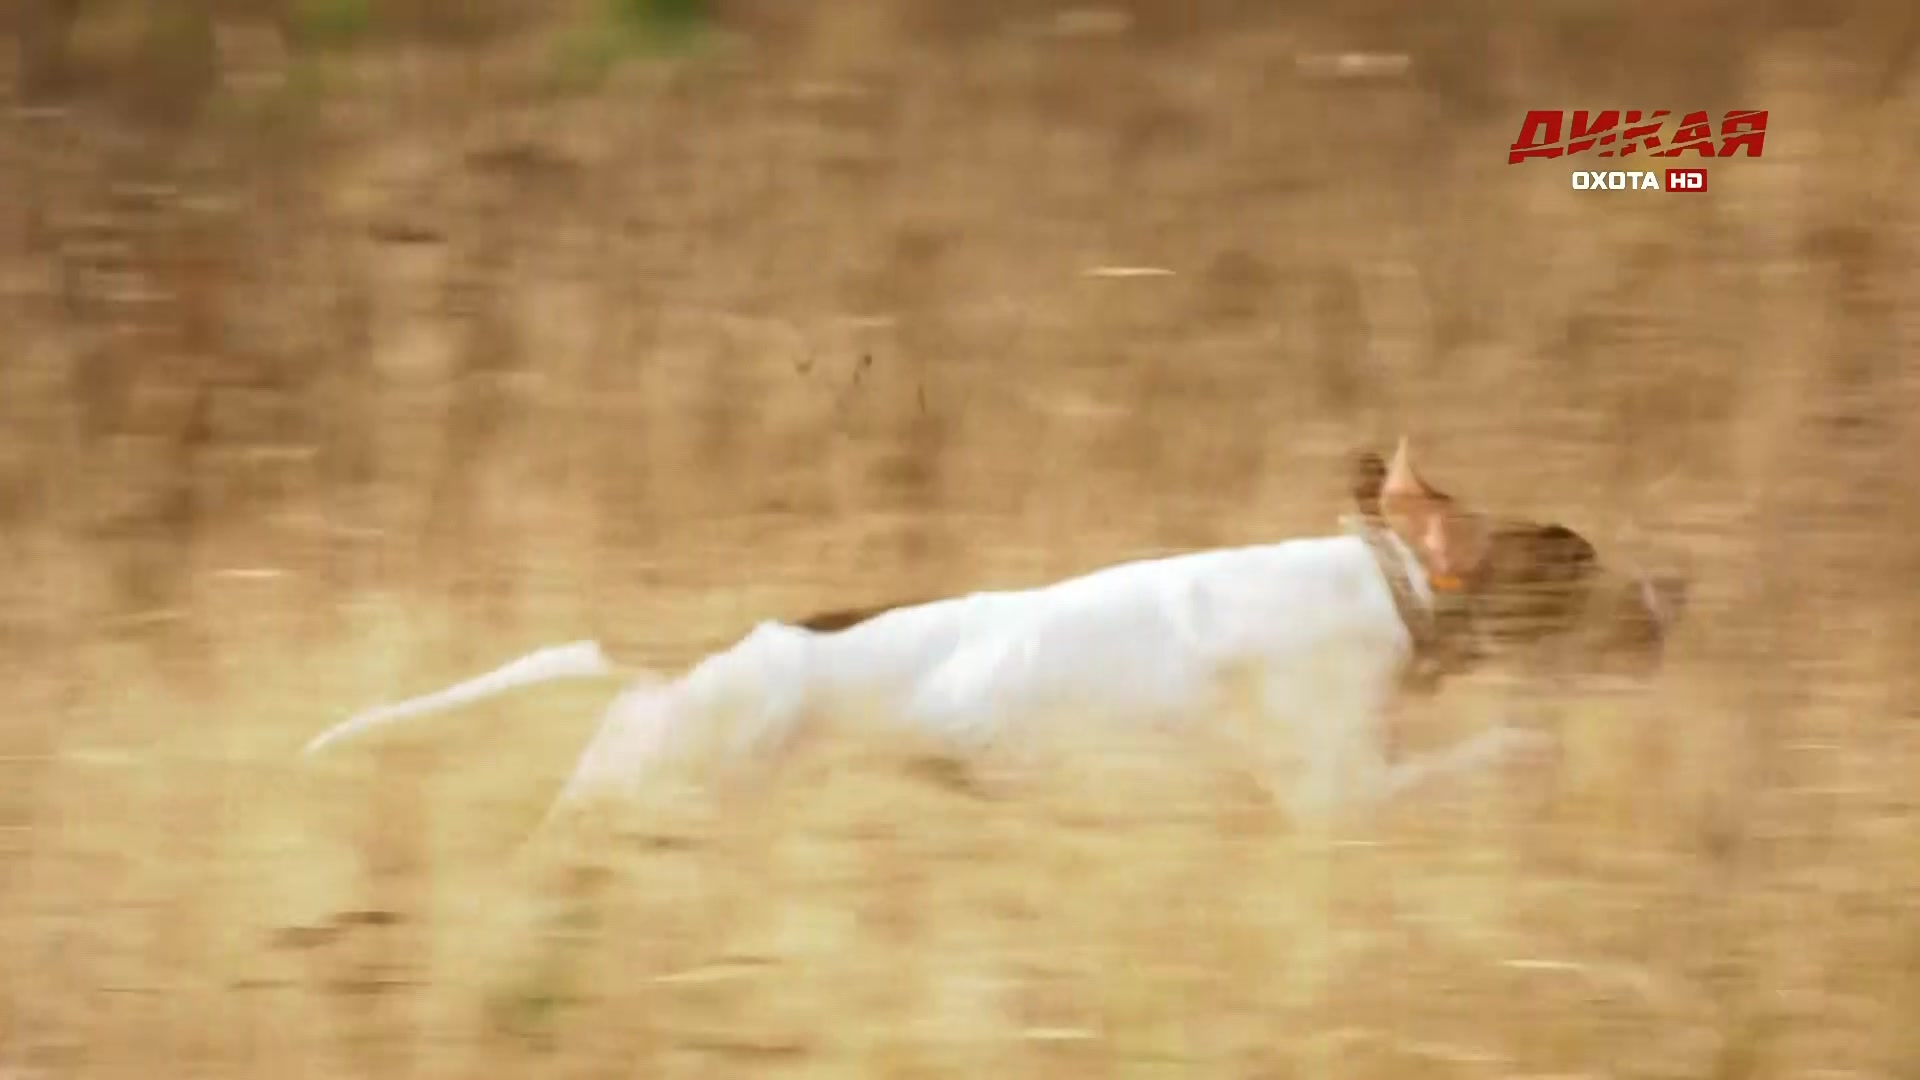Dikaya_Ohota_HD: (1501, 105, 1776, 195)
